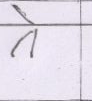ai_matra: (12, 4, 37, 23)
